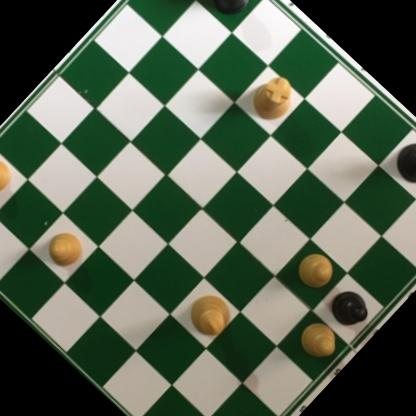black-king: (385, 126, 416, 199)
black-pawn: (323, 281, 376, 334)
black-rook: (196, 0, 269, 23)
white-king: (180, 284, 240, 344)
white-pawn: (291, 314, 345, 367), (40, 222, 93, 275), (289, 244, 342, 297), (0, 147, 21, 202)
white-rook: (242, 67, 304, 129)
